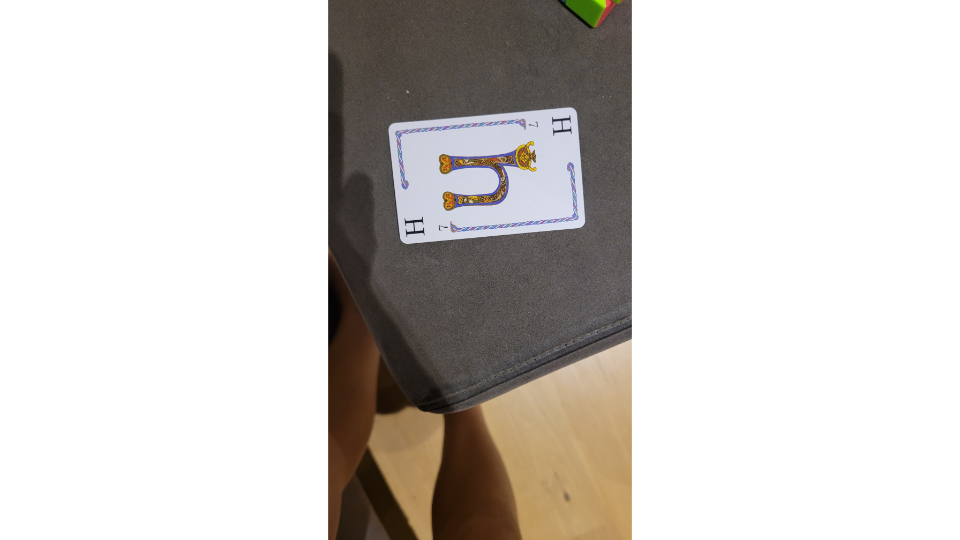H: (386, 104, 591, 246)
